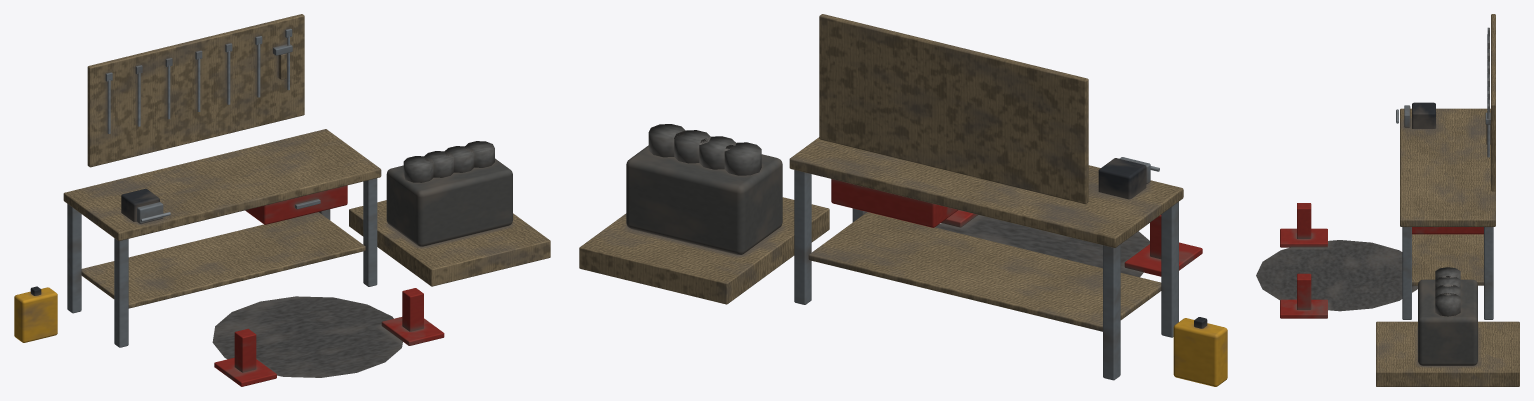
File: rep_stol.glb
The picture shows the model from 3 angles, left to right: view 1: azimuth 30°, elevation 25°; view 2: azimuth 150°, elevation 25°; view 3: azimuth 270°, elevation 25°; orthographic projection. The views are drawn at different scales.
Parts seen in each view (by area): view 1: Stol; view 2: Stol; view 3: Stol.
Part boxes in pixels (<box>): Stol: <box>14,14,550,386</box>; Stol: <box>579,14,1227,386</box>; Stol: <box>1256,14,1519,386</box>.
Bounding box in the file's own units: 4.05 × 1.9 × 2.2.
1 material, 1 textured.
